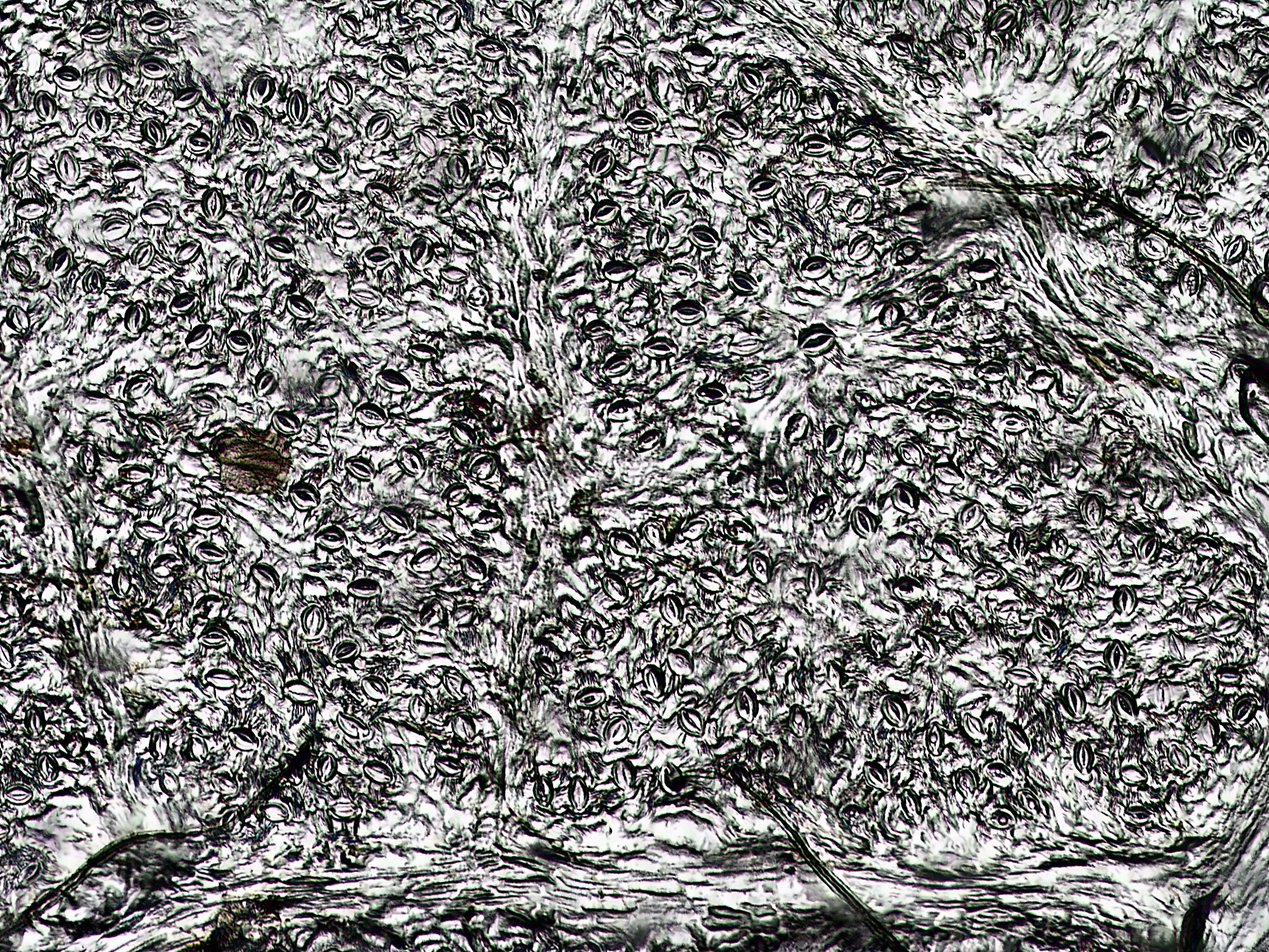stomata: (798, 327, 835, 357), (396, 444, 427, 478), (880, 692, 909, 728), (314, 523, 347, 554), (922, 407, 962, 432), (365, 182, 400, 210), (54, 148, 81, 184), (374, 369, 411, 395), (973, 435, 1002, 468), (671, 299, 706, 326), (1079, 492, 1105, 528), (1110, 80, 1139, 112), (1061, 681, 1086, 718), (288, 482, 321, 510), (694, 566, 727, 594), (658, 592, 685, 626), (336, 711, 370, 738), (282, 680, 318, 705), (893, 576, 923, 606), (930, 533, 960, 563), (892, 238, 923, 267), (717, 111, 749, 139), (602, 571, 629, 604), (1111, 689, 1138, 722), (1103, 638, 1129, 672), (1005, 719, 1031, 753), (971, 564, 1006, 589), (609, 529, 638, 559), (891, 483, 919, 514), (1032, 616, 1060, 647), (201, 187, 225, 223), (452, 227, 484, 254), (692, 145, 724, 172), (957, 500, 984, 532), (641, 336, 678, 359), (125, 300, 150, 334), (600, 353, 634, 378), (602, 260, 637, 284), (381, 506, 411, 534), (136, 416, 167, 443), (737, 64, 764, 95), (1074, 447, 1105, 474), (418, 599, 445, 630), (863, 760, 890, 791), (727, 270, 759, 296), (914, 628, 940, 660), (97, 62, 122, 95), (75, 441, 100, 474), (611, 758, 636, 791), (286, 89, 308, 126), (677, 707, 705, 736), (51, 65, 82, 91), (642, 518, 668, 549), (688, 225, 720, 250), (1113, 584, 1138, 616), (949, 604, 974, 636), (985, 804, 1017, 829), (1232, 694, 1257, 726), (50, 245, 74, 278), (227, 254, 249, 290), (354, 403, 387, 427), (967, 259, 1000, 283), (693, 381, 726, 405), (408, 548, 441, 572), (747, 550, 771, 583), (641, 664, 665, 697), (660, 762, 684, 795), (588, 148, 615, 177), (450, 420, 477, 449), (747, 216, 776, 243), (1004, 484, 1033, 511), (349, 285, 383, 308), (132, 520, 166, 543), (747, 176, 781, 199), (381, 53, 411, 79), (312, 146, 342, 172), (1213, 42, 1239, 72), (414, 129, 439, 160), (917, 284, 948, 309), (1223, 234, 1248, 265), (608, 400, 639, 425), (1178, 264, 1200, 299), (736, 686, 758, 721), (842, 128, 874, 152), (850, 506, 874, 538), (1006, 527, 1030, 559), (1213, 615, 1245, 639), (138, 11, 171, 34), (263, 237, 296, 260), (780, 80, 803, 113), (799, 134, 832, 157), (1138, 532, 1161, 565), (489, 96, 516, 124), (991, 5, 1018, 33), (985, 760, 1013, 787), (326, 74, 352, 103), (449, 102, 474, 132), (1139, 235, 1169, 260), (228, 727, 258, 752), (79, 22, 113, 44), (973, 361, 1007, 383), (33, 90, 57, 121), (590, 199, 621, 223), (301, 604, 325, 635), (861, 628, 885, 659), (728, 335, 765, 355), (954, 768, 977, 800), (14, 198, 49, 219), (899, 788, 920, 823), (895, 440, 922, 467), (291, 190, 317, 218), (314, 373, 342, 399), (847, 195, 873, 223), (784, 413, 810, 441), (666, 649, 694, 675), (604, 715, 630, 743), (360, 676, 388, 702), (625, 110, 658, 132), (805, 562, 827, 595), (250, 74, 275, 103), (141, 202, 170, 227), (683, 84, 708, 113), (451, 714, 476, 743), (7, 151, 31, 181), (101, 217, 131, 241), (132, 239, 156, 269), (5, 305, 29, 335), (225, 330, 255, 354), (346, 455, 376, 479), (1026, 369, 1056, 393), (569, 775, 589, 811), (925, 720, 945, 756), (1074, 739, 1095, 773), (933, 462, 964, 485), (575, 686, 606, 709), (1117, 764, 1148, 787), (471, 511, 503, 533), (85, 106, 111, 133), (232, 114, 258, 141), (879, 301, 905, 328), (461, 554, 487, 581), (141, 117, 166, 145), (409, 237, 434, 265), (837, 0, 862, 28), (346, 578, 381, 598), (174, 241, 203, 265), (437, 3, 461, 32), (468, 456, 497, 480), (807, 183, 831, 212), (249, 566, 278, 590), (681, 45, 714, 66), (788, 704, 809, 737), (533, 774, 554, 807), (1005, 667, 1038, 688), (1200, 714, 1221, 747), (801, 256, 831, 279), (722, 520, 752, 543), (363, 760, 393, 783), (36, 752, 59, 782), (823, 661, 846, 691), (447, 154, 469, 185), (646, 223, 668, 254), (1228, 563, 1250, 594), (118, 462, 152, 482), (205, 669, 239, 689), (186, 324, 212, 350), (580, 620, 606, 646), (366, 113, 391, 140), (849, 233, 874, 260), (1200, 150, 1225, 177), (681, 515, 708, 540), (1017, 787, 1042, 814), (138, 57, 170, 78), (287, 295, 315, 319), (191, 508, 223, 529), (608, 36, 640, 57), (195, 542, 227, 563), (331, 216, 360, 239), (732, 616, 755, 645), (332, 639, 361, 662), (64, 728, 87, 757), (1161, 104, 1196, 123), (582, 319, 615, 339), (875, 166, 908, 186), (259, 801, 289, 823), (1047, 529, 1069, 559), (1166, 742, 1188, 772), (475, 40, 506, 61), (198, 628, 229, 649), (24, 706, 45, 737), (315, 753, 336, 784), (916, 71, 941, 97), (808, 495, 833, 521), (83, 266, 107, 293), (1232, 125, 1256, 152), (1060, 565, 1084, 592), (173, 87, 201, 110), (245, 163, 268, 191), (272, 411, 300, 434), (1176, 193, 1204, 216), (1166, 629, 1186, 661), (170, 292, 199, 314), (512, 0, 534, 29), (668, 262, 697, 284), (362, 246, 392, 267), (414, 35, 435, 65), (329, 802, 362, 821), (442, 483, 467, 508), (533, 656, 558, 681), (886, 37, 912, 61), (211, 772, 237, 796), (845, 445, 865, 476), (2, 784, 33, 804), (8, 252, 30, 280), (192, 394, 220, 416), (822, 425, 844, 453), (374, 615, 402, 637), (138, 608, 166, 630), (158, 769, 180, 797), (694, 0, 723, 21), (1113, 476, 1142, 497), (742, 364, 771, 385), (186, 733, 207, 762), (110, 160, 142, 179), (150, 727, 169, 759), (185, 130, 210, 154), (434, 756, 464, 776), (255, 369, 278, 395), (417, 182, 444, 204), (407, 693, 429, 720), (949, 25, 969, 54), (112, 567, 132, 596), (337, 14, 361, 38), (1086, 131, 1111, 154), (766, 477, 788, 503), (482, 181, 512, 200), (852, 391, 882, 410), (408, 343, 439, 361), (151, 554, 174, 578), (122, 377, 151, 396), (1210, 5, 1236, 26), (1100, 409, 1127, 429), (485, 147, 509, 169), (1044, 450, 1061, 481), (961, 714, 982, 739), (440, 264, 469, 282), (603, 61, 623, 87), (1000, 414, 1027, 433), (1155, 682, 1172, 712), (1213, 667, 1241, 685), (452, 606, 477, 626), (637, 431, 664, 449), (16, 862, 38, 883), (1176, 586, 1208, 600), (663, 190, 687, 208), (1125, 807, 1152, 821)
